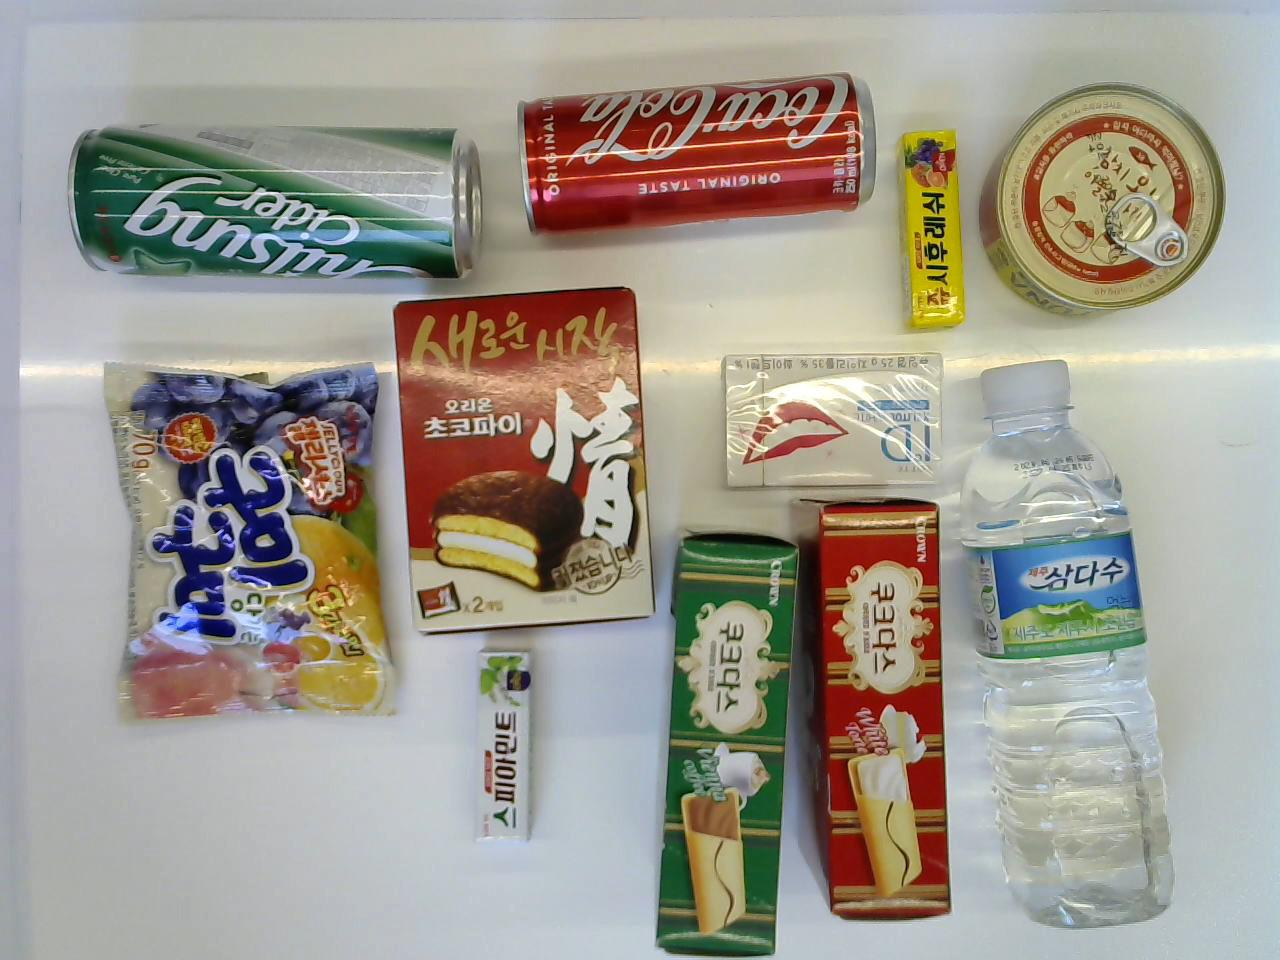ID_gum: (715, 353, 953, 488)
chocopie: (387, 278, 660, 644)
cidar: (63, 113, 490, 291)
coke: (509, 68, 881, 235)
couque_coffee: (645, 521, 803, 955)
couque_white: (791, 496, 961, 927)
gumi_gumi: (93, 350, 408, 724)
juicyfresh: (892, 126, 968, 334)
samdasu: (947, 357, 1185, 932)
spearmint: (466, 645, 544, 848)
tuna: (975, 80, 1228, 323)
